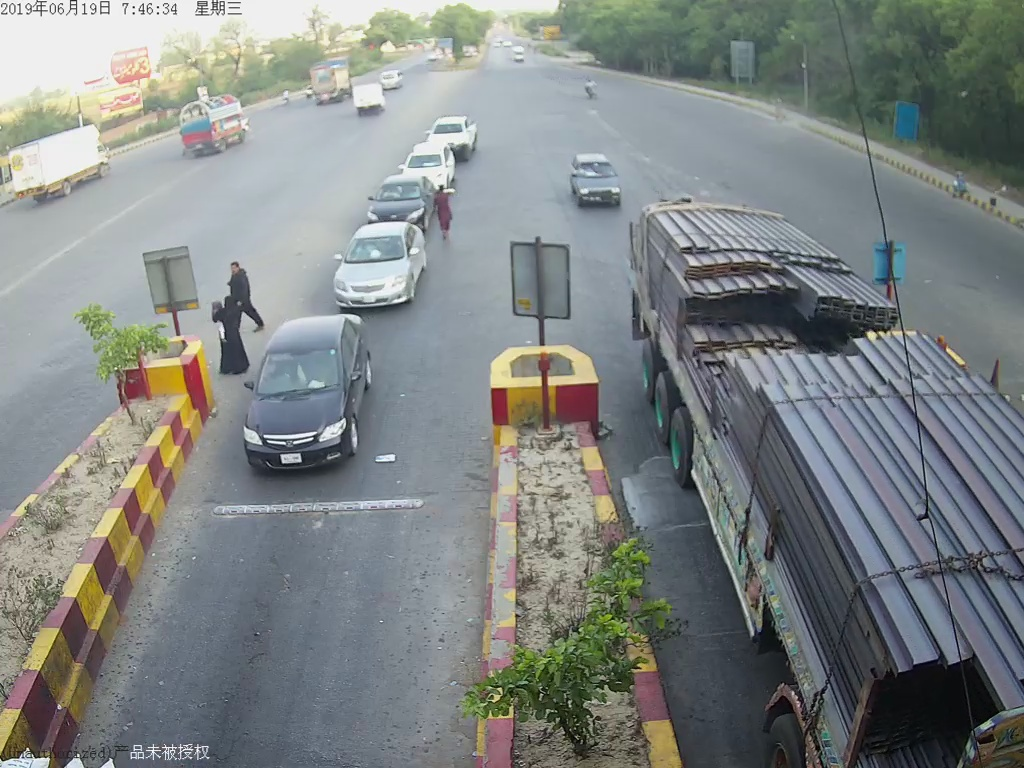Cat-1: (239, 317, 375, 464), (334, 227, 423, 303), (568, 146, 626, 214)
